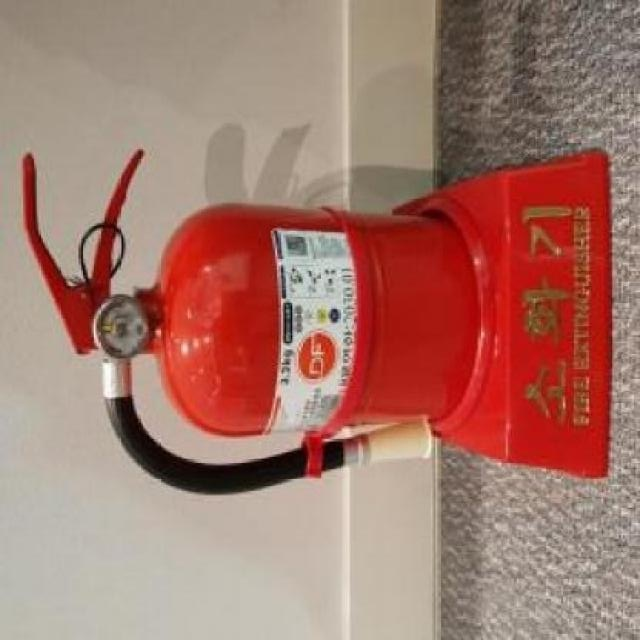fire extinguisher: (22, 149, 481, 496)
